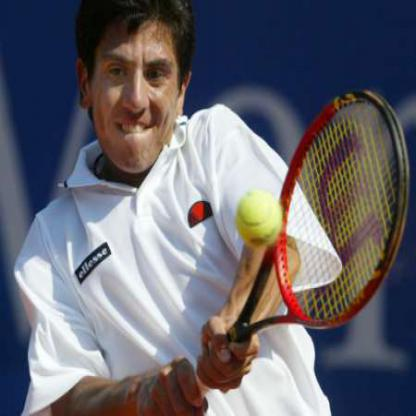face: (90, 1, 181, 175)
